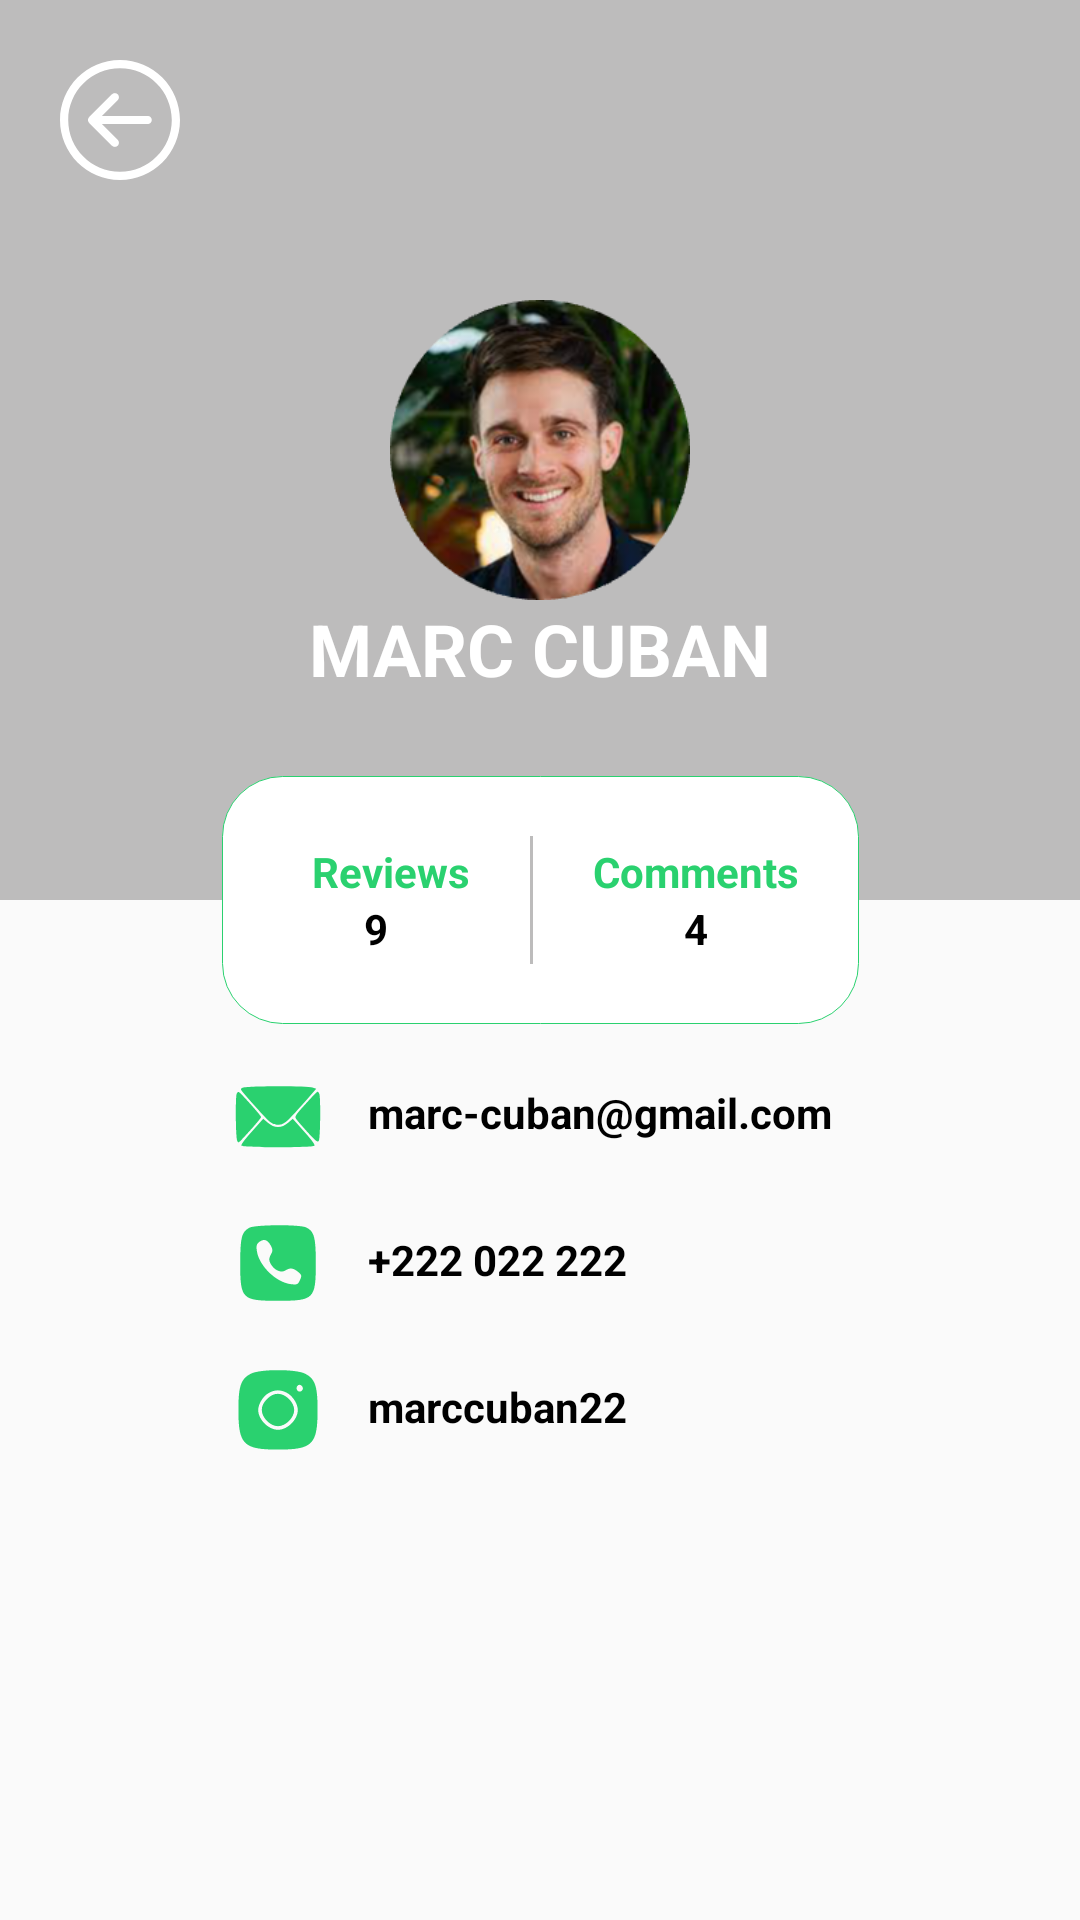

Named icons in this screenshot (1080px x 1920px) and their centers, (x,y):
back circle arrow: (120,120)
phone: (278,1263)
